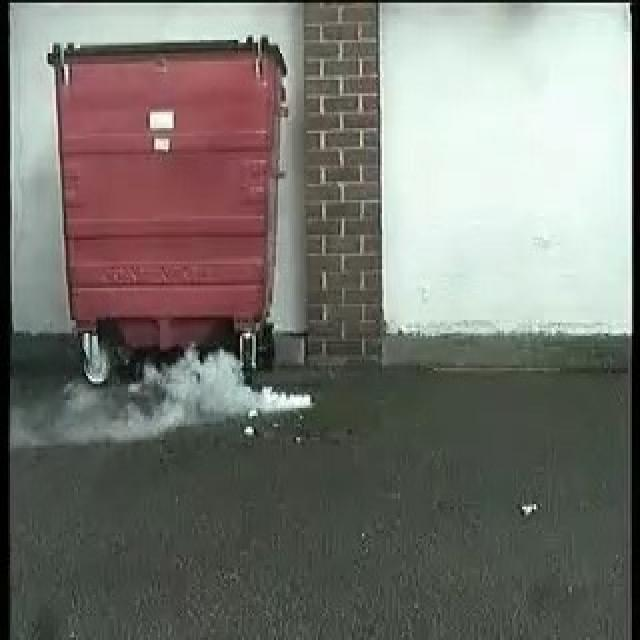smoke: (119, 348, 314, 441)
